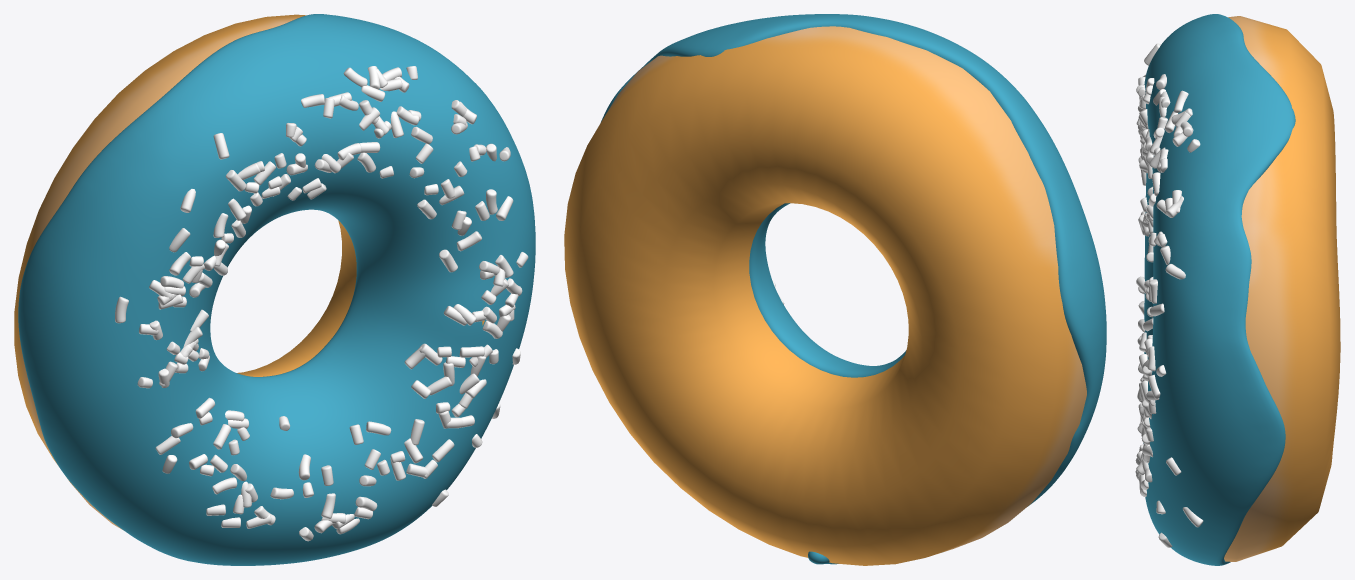
File: blue-stand.gltf
The picture shows the model from 3 angles, left to right: view 1: azimuth 30°, elevation 25°; view 2: azimuth 150°, elevation 25°; view 3: azimuth 270°, elevation 25°; orthographic projection. The views are drawn at different scales.
Visible parts, largest first — view 1: icing.001, Donut.001; view 2: Donut.001, icing.001; view 3: icing.001, Donut.001.
Part boxes in pixels (x1,y1,x2,y2): icing.001: (18, 14, 535, 565); Donut.001: (14, 14, 484, 529); Donut.001: (564, 26, 1086, 565); icing.001: (601, 14, 1106, 564); icing.001: (1135, 14, 1295, 565); Donut.001: (1224, 16, 1340, 561).
Bounding box in the file's own units: 0.1448 × 0.1453 × 0.0552.
Materials: 3 (1 with a texture image).
